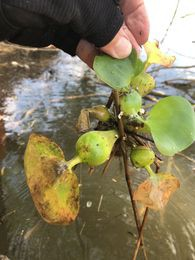water_hyacinth: (12, 34, 195, 230)
